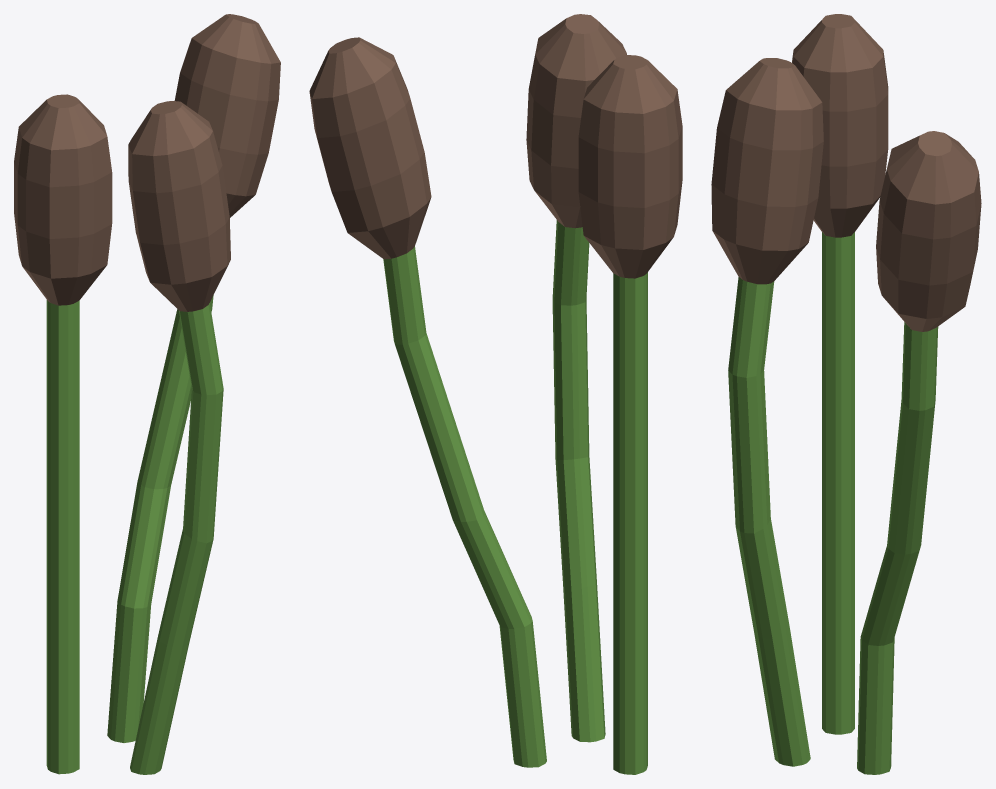
File: Grass1.4.fbx
The picture shows the model from 3 angles, left to right: view 1: azimuth 30°, elevation 25°; view 2: azimuth 150°, elevation 25°; view 3: azimuth 270°, elevation 25°; orthographic projection. The views are drawn at different scales.
Visible parts, largest first — view 1: Grass1.4; view 2: Grass1.4; view 3: Grass1.4.
Part boxes in pixels (x1,y1,x2,y2): Grass1.4: [14, 14, 280, 774]; Grass1.4: [309, 14, 682, 774]; Grass1.4: [711, 14, 981, 774].
Bounding box in the file's own units: 92.91 × 201 × 69.58.
